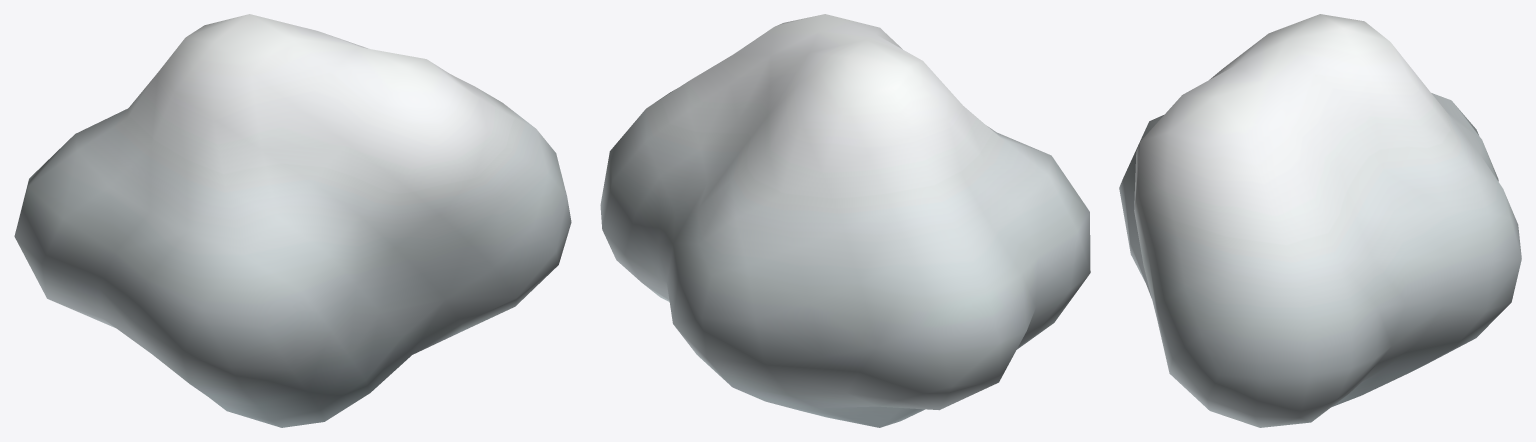
Rendered from kaykit-medieval-hexagon-pack-cloud-small.glb.
3 views of the same model, side by side, from view 1: azimuth 30°, elevation 25°; view 2: azimuth 150°, elevation 25°; view 3: azimuth 270°, elevation 25° (orthographic). The views are drawn at different scales.
Visible parts, largest first — view 1: cloud_small; view 2: cloud_small; view 3: cloud_small.
Boxes of the visible parts, left/top/right/bottom form: cloud_small: left=14, top=14, right=571, bottom=427; cloud_small: left=600, top=14, right=1090, bottom=427; cloud_small: left=1119, top=14, right=1521, bottom=427.
Bounding box in the file's own units: 2.34 × 1.84 × 1.79.
1 material, 1 textured.
